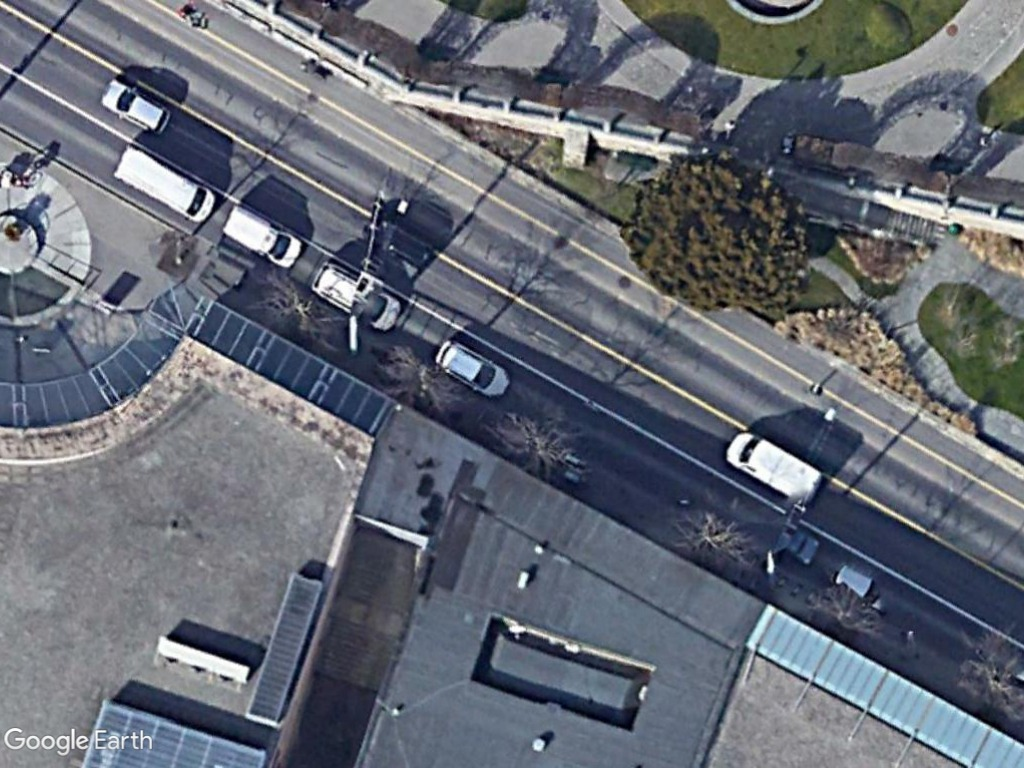car: (431, 336, 512, 403), (97, 74, 172, 134)
van: (110, 145, 217, 225), (724, 428, 824, 505), (309, 262, 404, 333), (221, 203, 303, 270)
